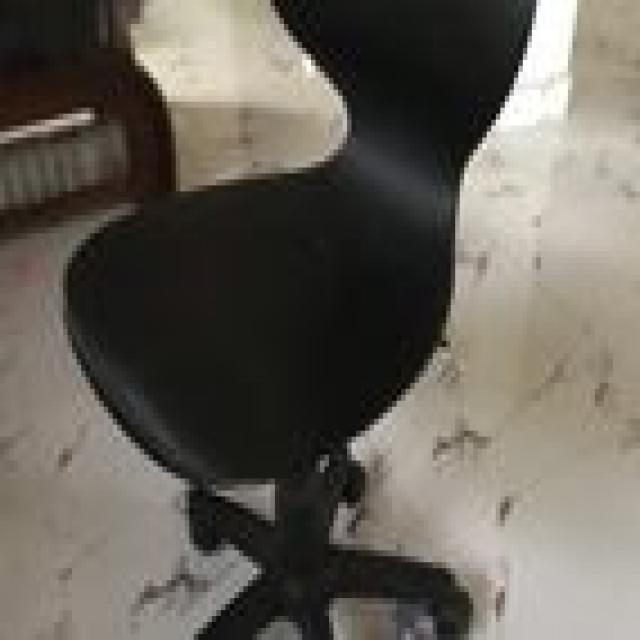others: (49, 6, 541, 640)
